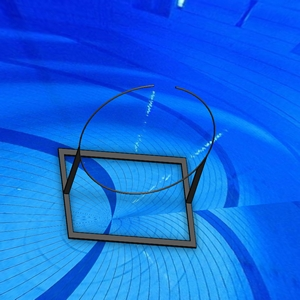circle: (58, 83, 217, 250)
